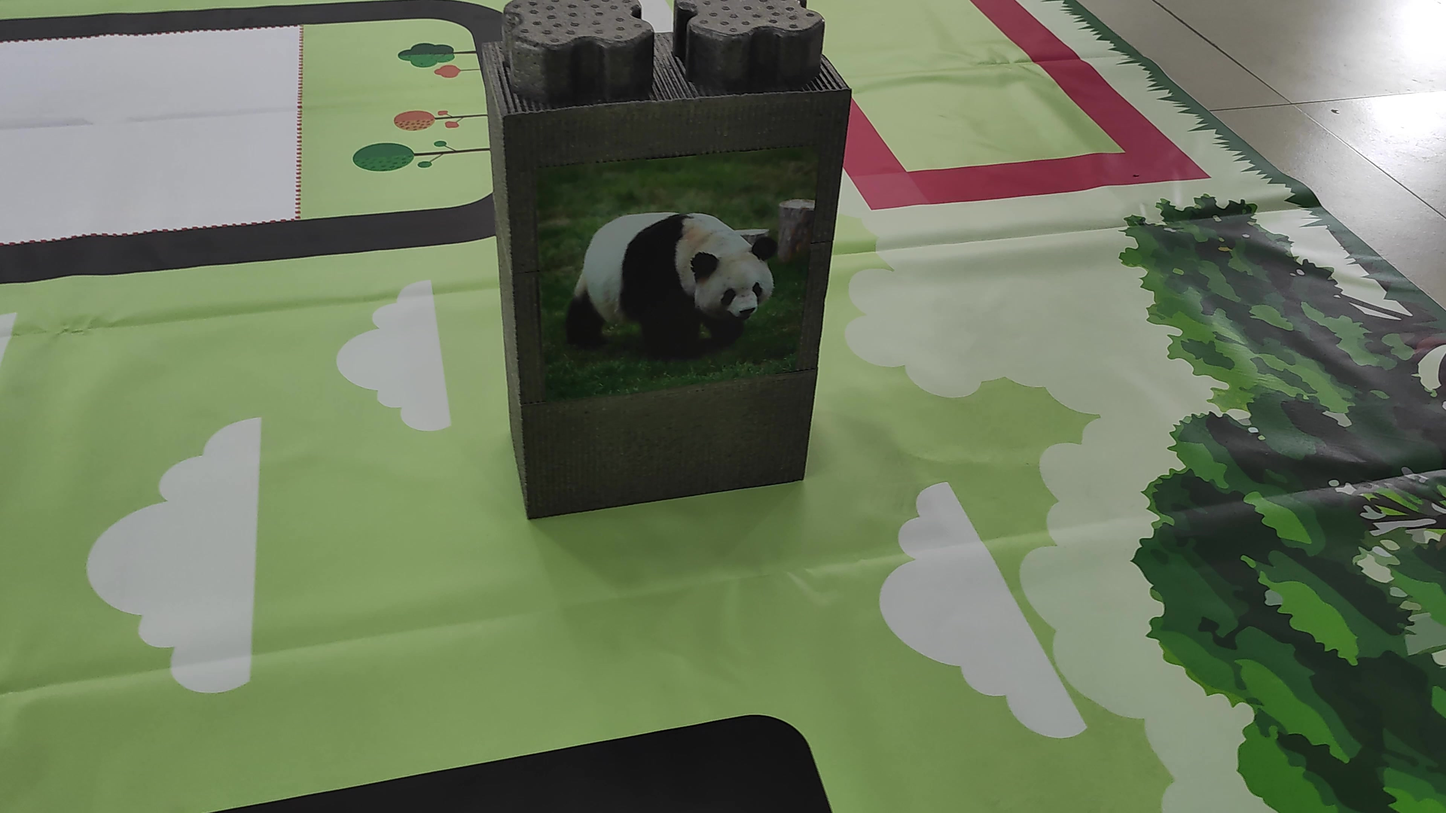panda: (561, 184, 796, 374)
